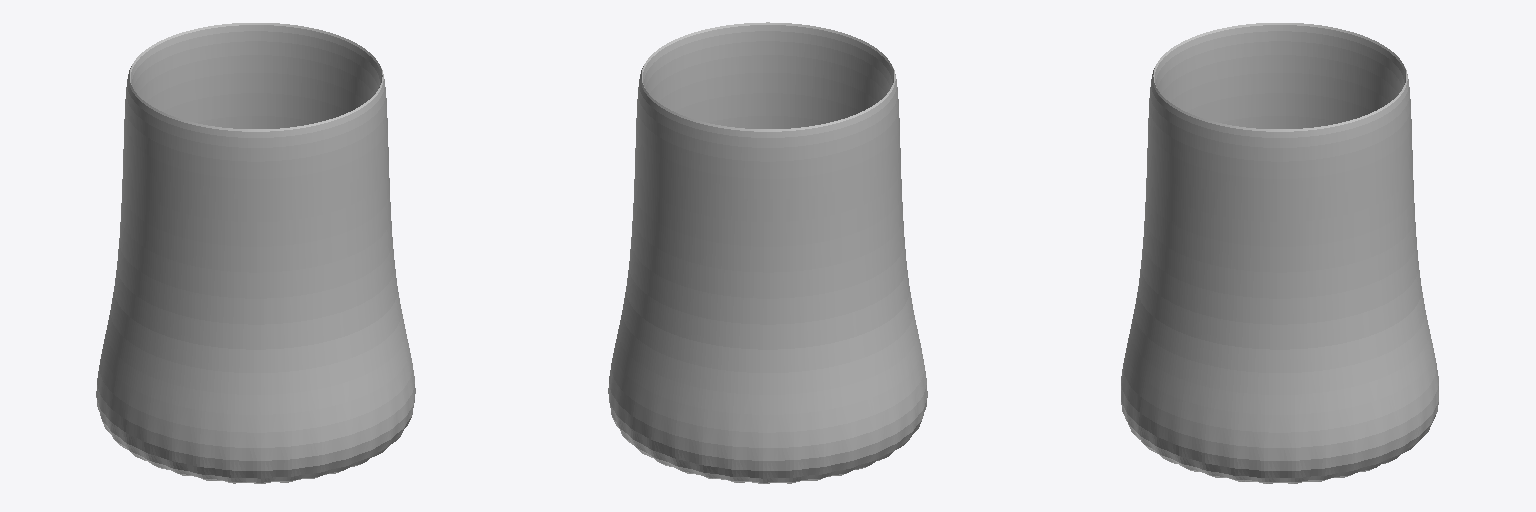
File: testthing.obj
The picture shows the model from 3 angles: view 1: azimuth 30°, elevation 25°; view 2: azimuth 150°, elevation 25°; view 3: azimuth 270°, elevation 25°; orthographic projection.
Parts seen in each view (by area): view 1: Cylinder; view 2: Cylinder; view 3: Cylinder.
Boxes of the visible parts, <box> form: Cylinder: <box>96,23,415,483</box>; Cylinder: <box>608,22,927,483</box>; Cylinder: <box>1121,23,1438,483</box>.
Bounding box in the file's own units: 2.38 × 2.96 × 2.38.